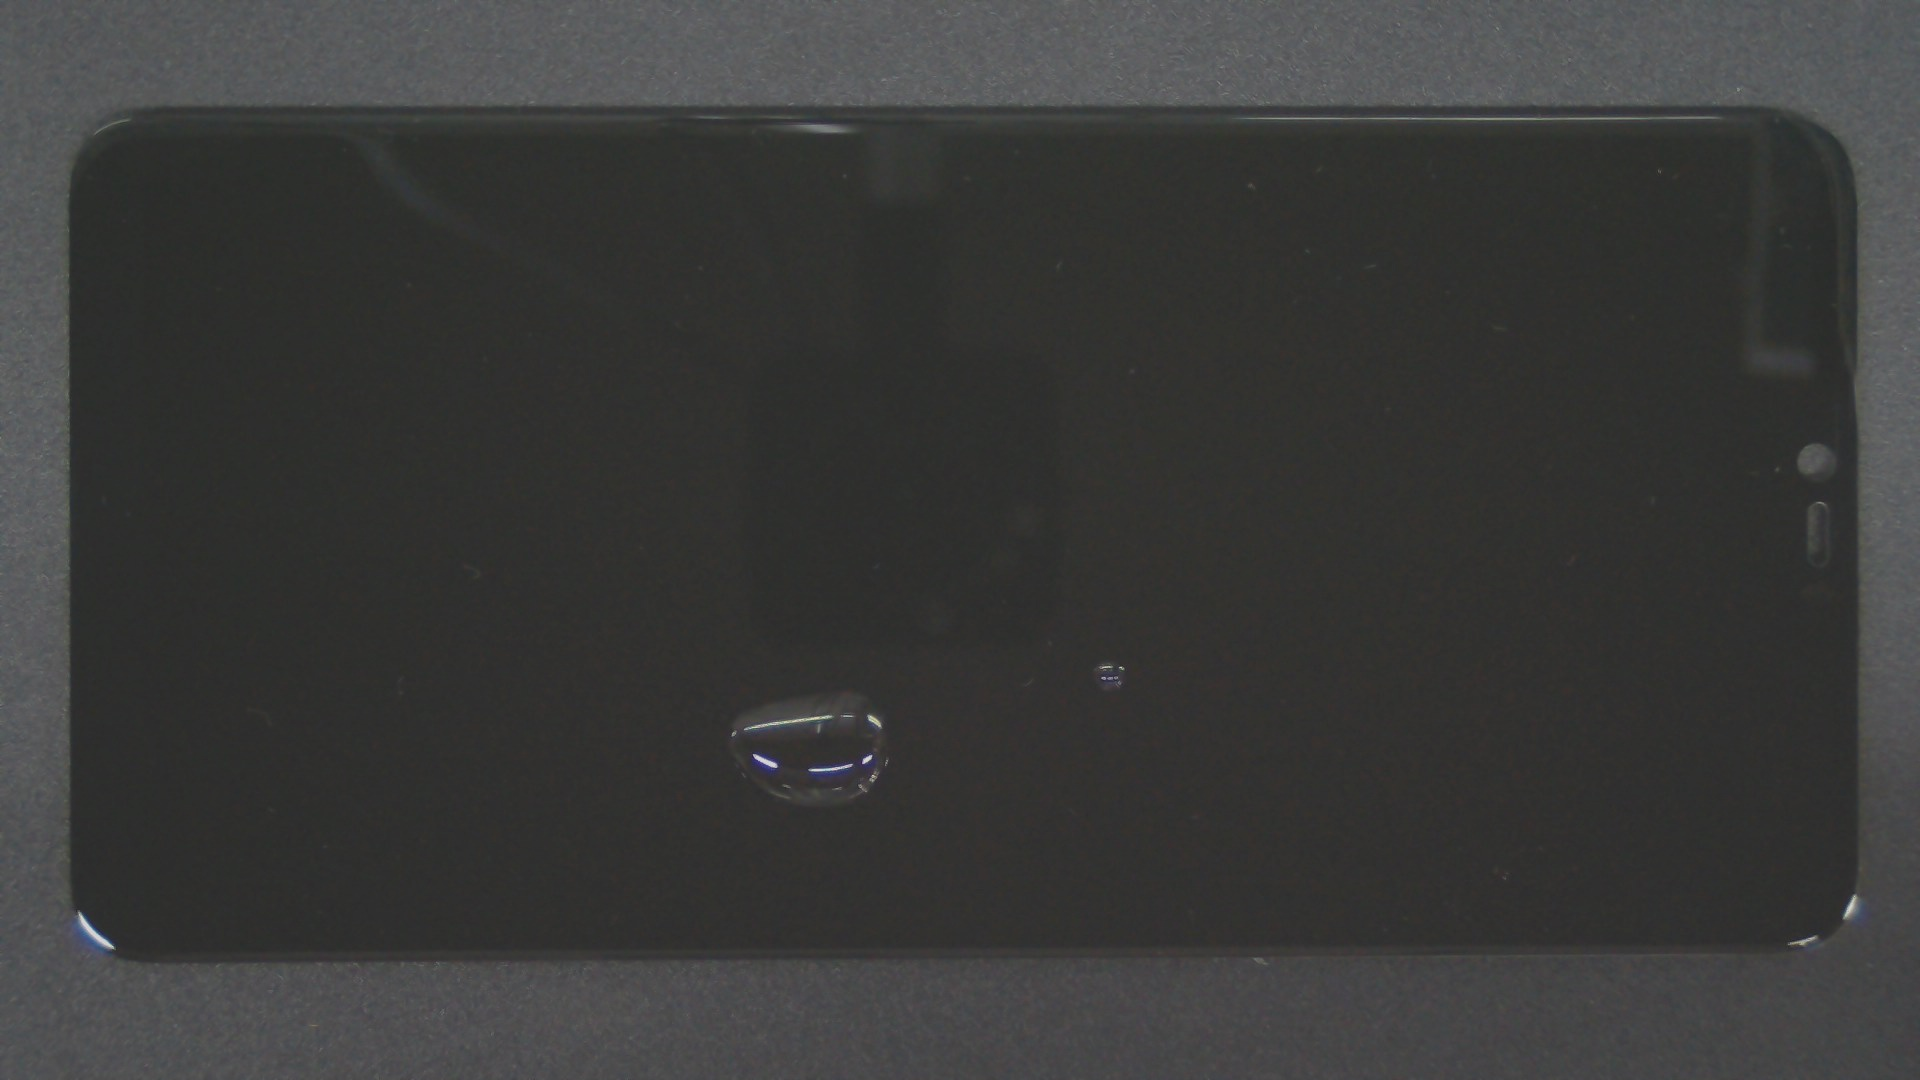oil: (555, 330, 1663, 990), (425, 344, 1270, 1035)
